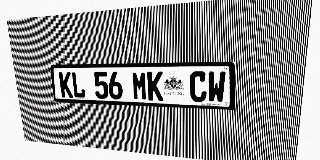5: (94, 72, 109, 99)
6: (107, 72, 123, 99)
C: (190, 71, 207, 102)
K: (147, 71, 163, 101), (59, 72, 73, 98)
L: (71, 72, 86, 98)
M: (132, 71, 148, 100)
W: (207, 71, 226, 103)
